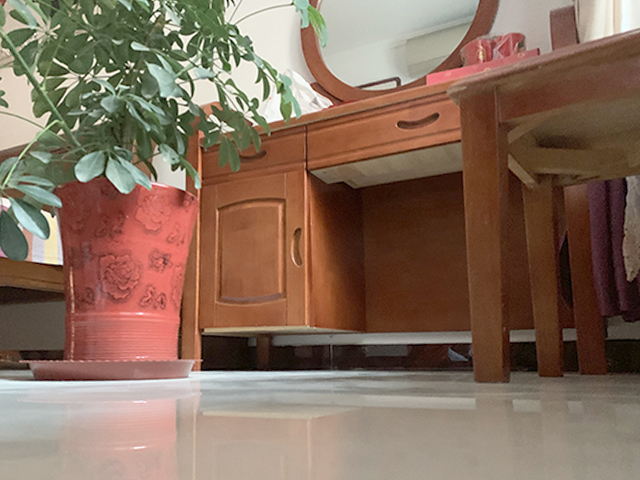stool: (448, 27, 640, 384)
table: (180, 82, 460, 373)
